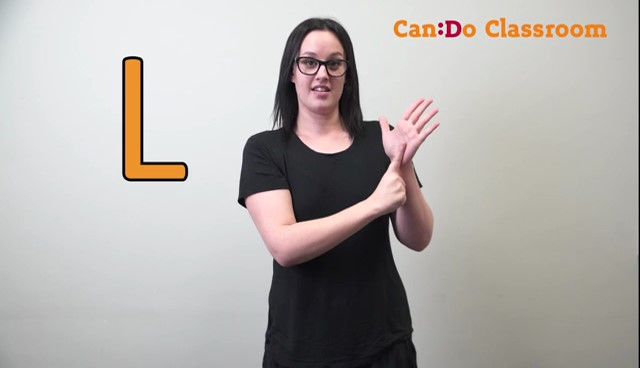L: (364, 81, 467, 229)
